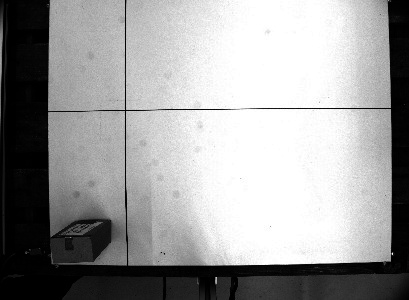b6: (47, 217, 113, 265)
